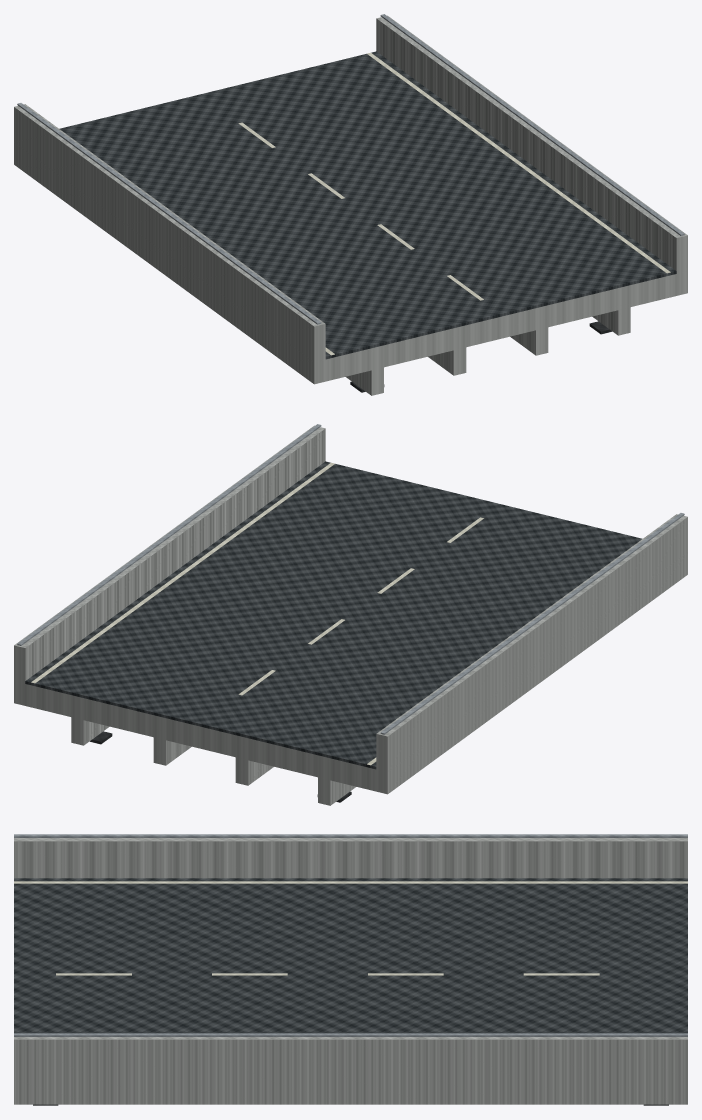
3 views of the same model, one above another, from view 1: azimuth 30°, elevation 25°; view 2: azimuth 150°, elevation 25°; view 3: azimuth 270°, elevation 25° (orthographic). The views are drawn at different scales.
Parts seen in each view (by area): view 1: VIS_Asphalt, VIS_Concrete, VIS_GalvanizedSteel, VIS_LinePaint; view 2: VIS_Asphalt, VIS_Concrete, VIS_GalvanizedSteel, VIS_LinePaint; view 3: VIS_Asphalt, VIS_Concrete, VIS_GalvanizedSteel, VIS_LinePaint.
Part boxes in pixels (x1,y1,x2,y2): VIS_Asphalt: [59, 51, 676, 359]; VIS_Concrete: [14, 15, 687, 395]; VIS_GalvanizedSteel: [17, 14, 684, 324]; VIS_LinePaint: [238, 52, 670, 355]; VIS_Asphalt: [25, 461, 642, 769]; VIS_Concrete: [14, 425, 687, 805]; VIS_GalvanizedSteel: [17, 424, 684, 734]; VIS_LinePaint: [31, 462, 483, 765]; VIS_Asphalt: [14, 878, 687, 1033]; VIS_Concrete: [14, 838, 687, 1104]; VIS_GalvanizedSteel: [14, 834, 687, 1036]; VIS_LinePaint: [14, 881, 687, 975].
Size of the model in its own units: 11.5 by 2.6 by 16.
Materials: 5 (5 with a texture image).
